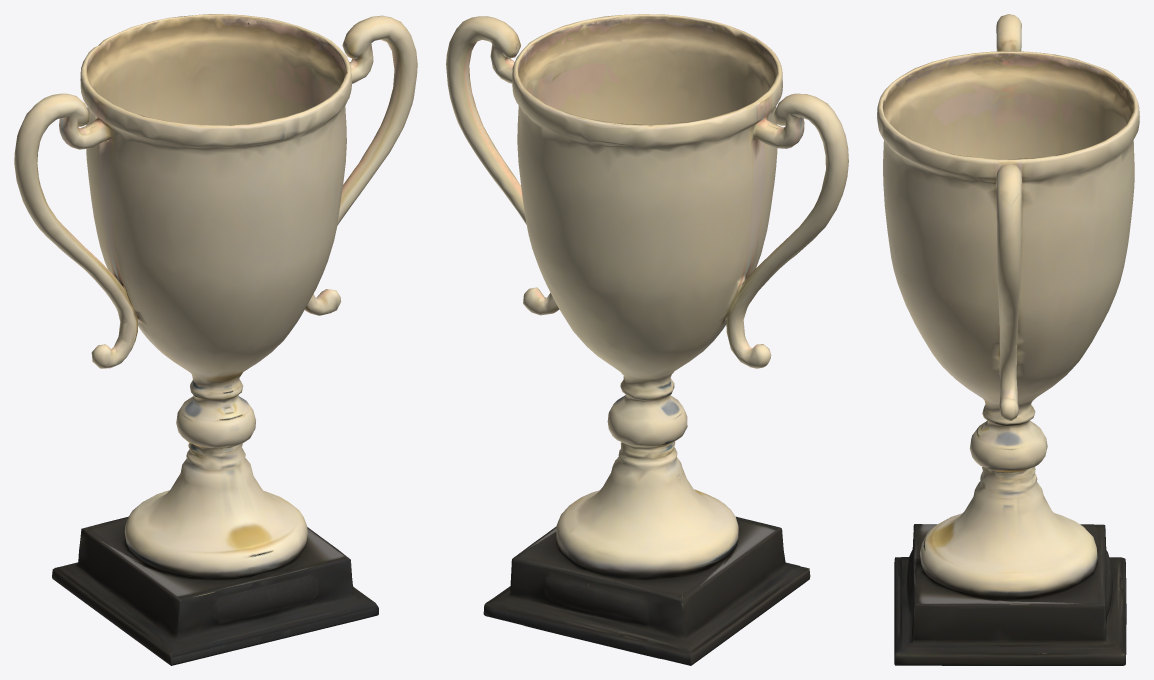
The model's file is silver_trophy.glb.
3 views of the same model, side by side, from view 1: azimuth 30°, elevation 25°; view 2: azimuth 150°, elevation 25°; view 3: azimuth 270°, elevation 25° (orthographic). The views are drawn at different scales.
Size of the model in its own units: 1.55 by 2 by 0.9086.
Materials: 1 (1 with a texture image).
